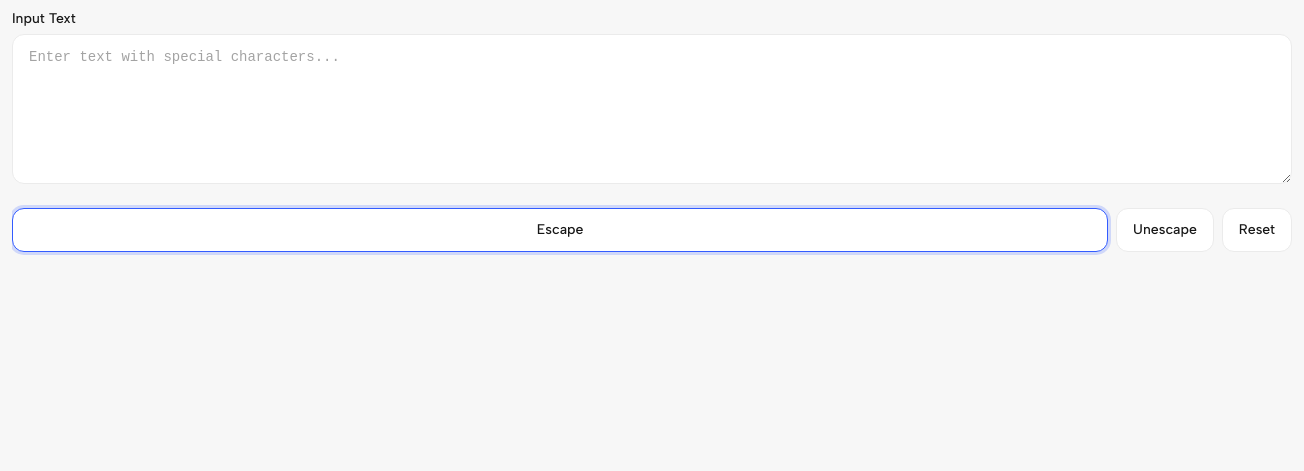
Test: EscapeUnescapeTool › escapes backslashes correctly
Type "path\\to\\file" into the text box with placeholder "Enter text with special characters..." at (652, 109), box [12, 34, 1292, 184]
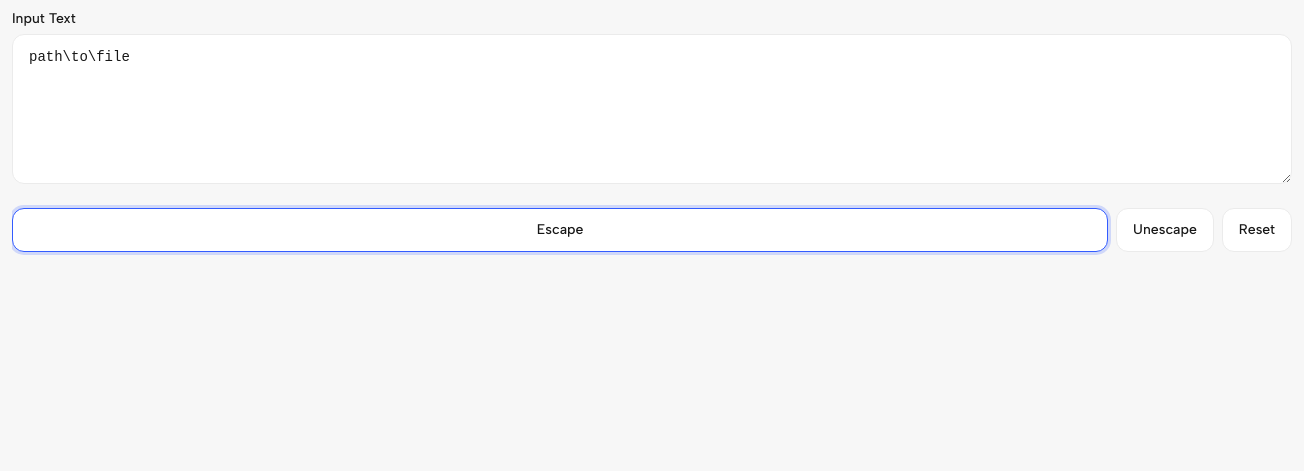
Click the button "Escape" at (560, 230), box [12, 208, 1108, 252]
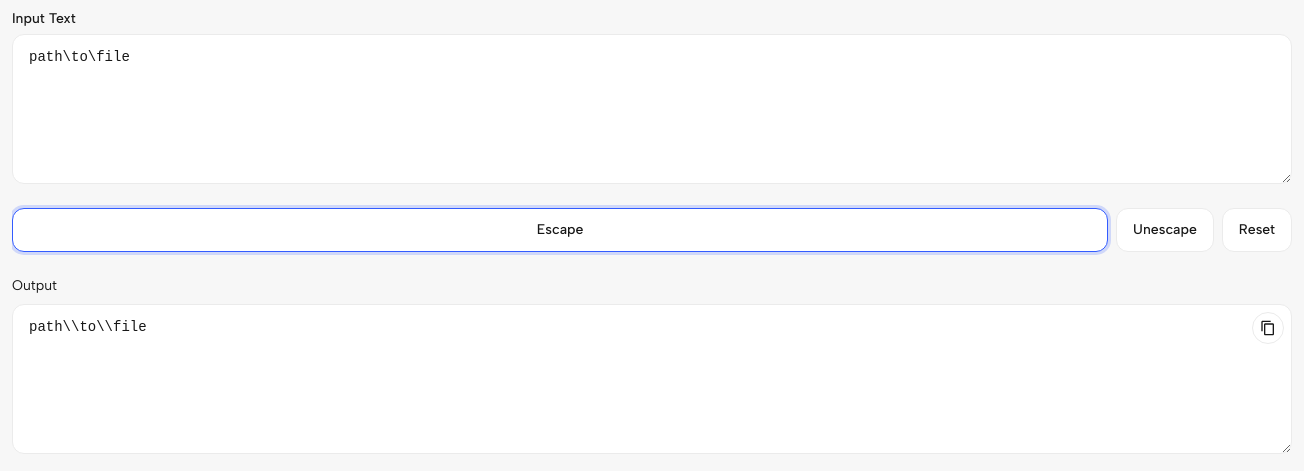
Expected: the text box below "Output" holds "path\\\\to\\\\file", [12, 304, 1292, 454]
